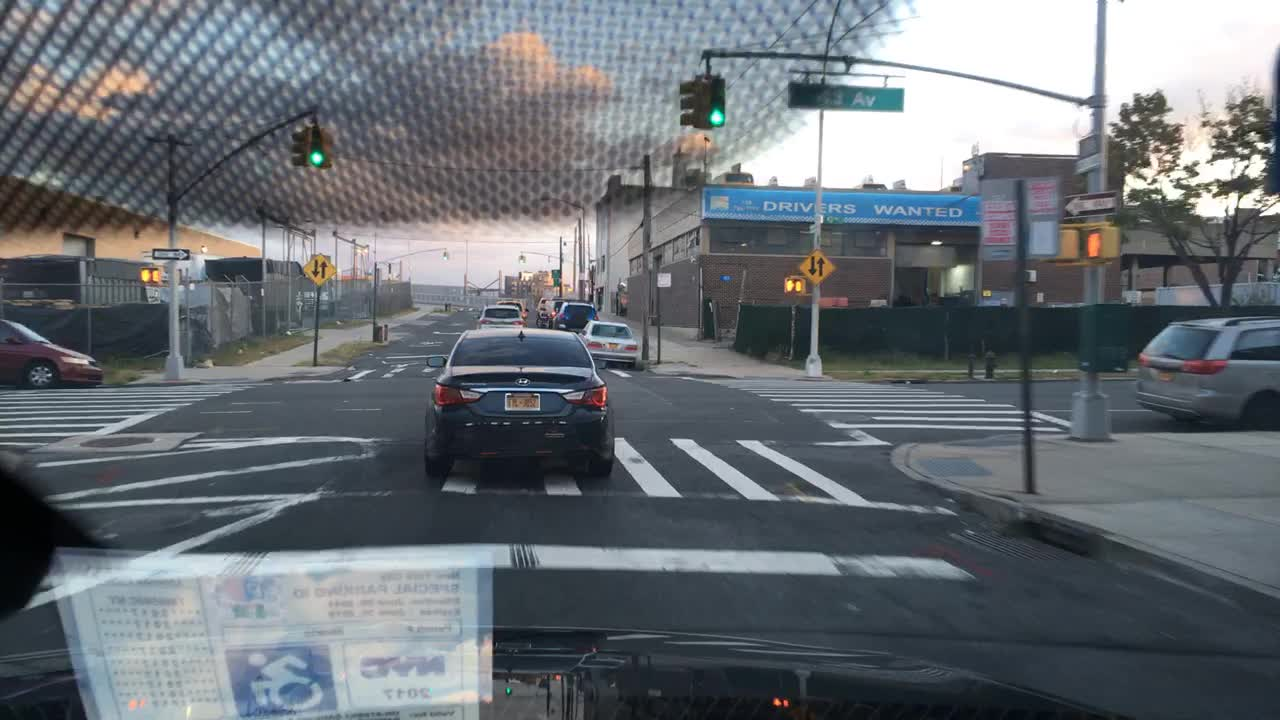car: (420, 322, 611, 481), (1131, 312, 1280, 431), (0, 316, 103, 392), (581, 319, 641, 372), (558, 304, 596, 335), (478, 304, 520, 329), (533, 296, 552, 321), (547, 296, 572, 313), (500, 298, 527, 310)
traffic light: (704, 75, 727, 132), (1085, 224, 1117, 264), (678, 74, 702, 126), (306, 124, 323, 164), (291, 126, 306, 166), (1054, 233, 1075, 258), (149, 266, 162, 281), (784, 278, 797, 292), (793, 278, 805, 292), (139, 267, 151, 279)
traffic sign: (985, 184, 1059, 260), (786, 82, 901, 111), (1062, 193, 1118, 215), (797, 250, 833, 283), (298, 255, 337, 283), (1075, 135, 1102, 169), (149, 246, 188, 263), (655, 273, 670, 286)
